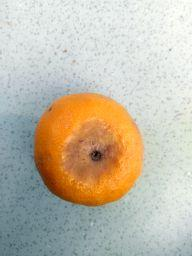orange: (34, 91, 145, 206)
